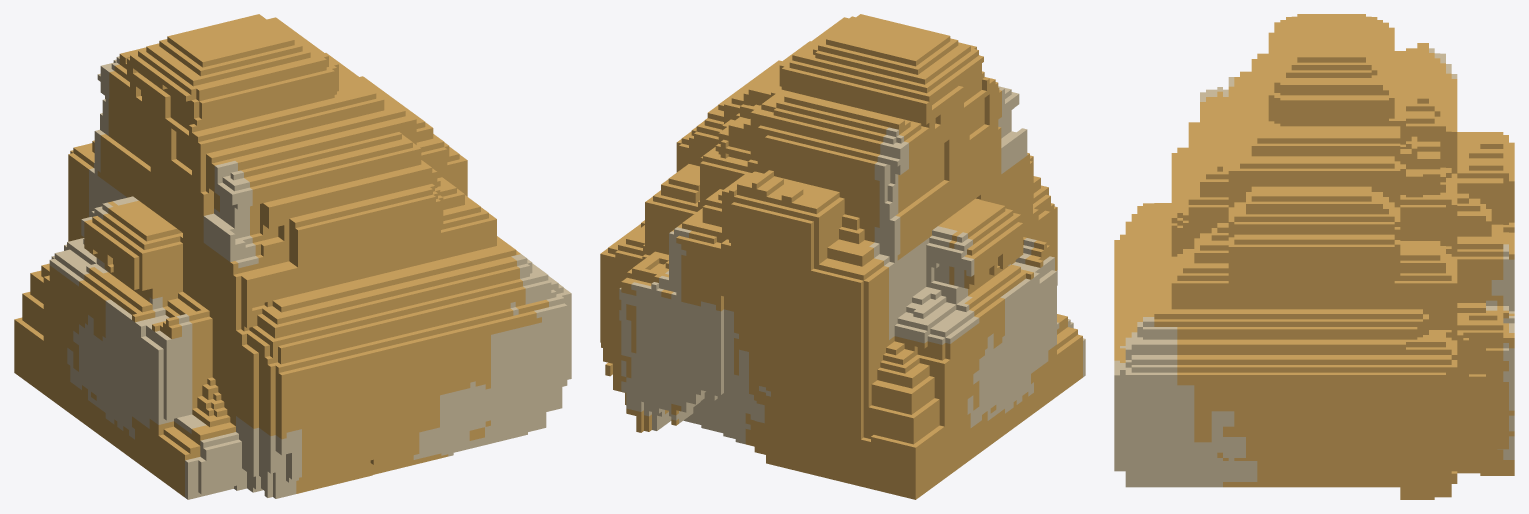
Rendered from Stones2.obj.
The picture shows the model from 3 angles, left to right: view 1: azimuth 30°, elevation 25°; view 2: azimuth 150°, elevation 25°; view 3: azimuth 270°, elevation 25°; orthographic projection. The views are drawn at different scales.
Size of the model in its own units: 7 by 7 by 7.
Materials: 1 (1 with a texture image).
